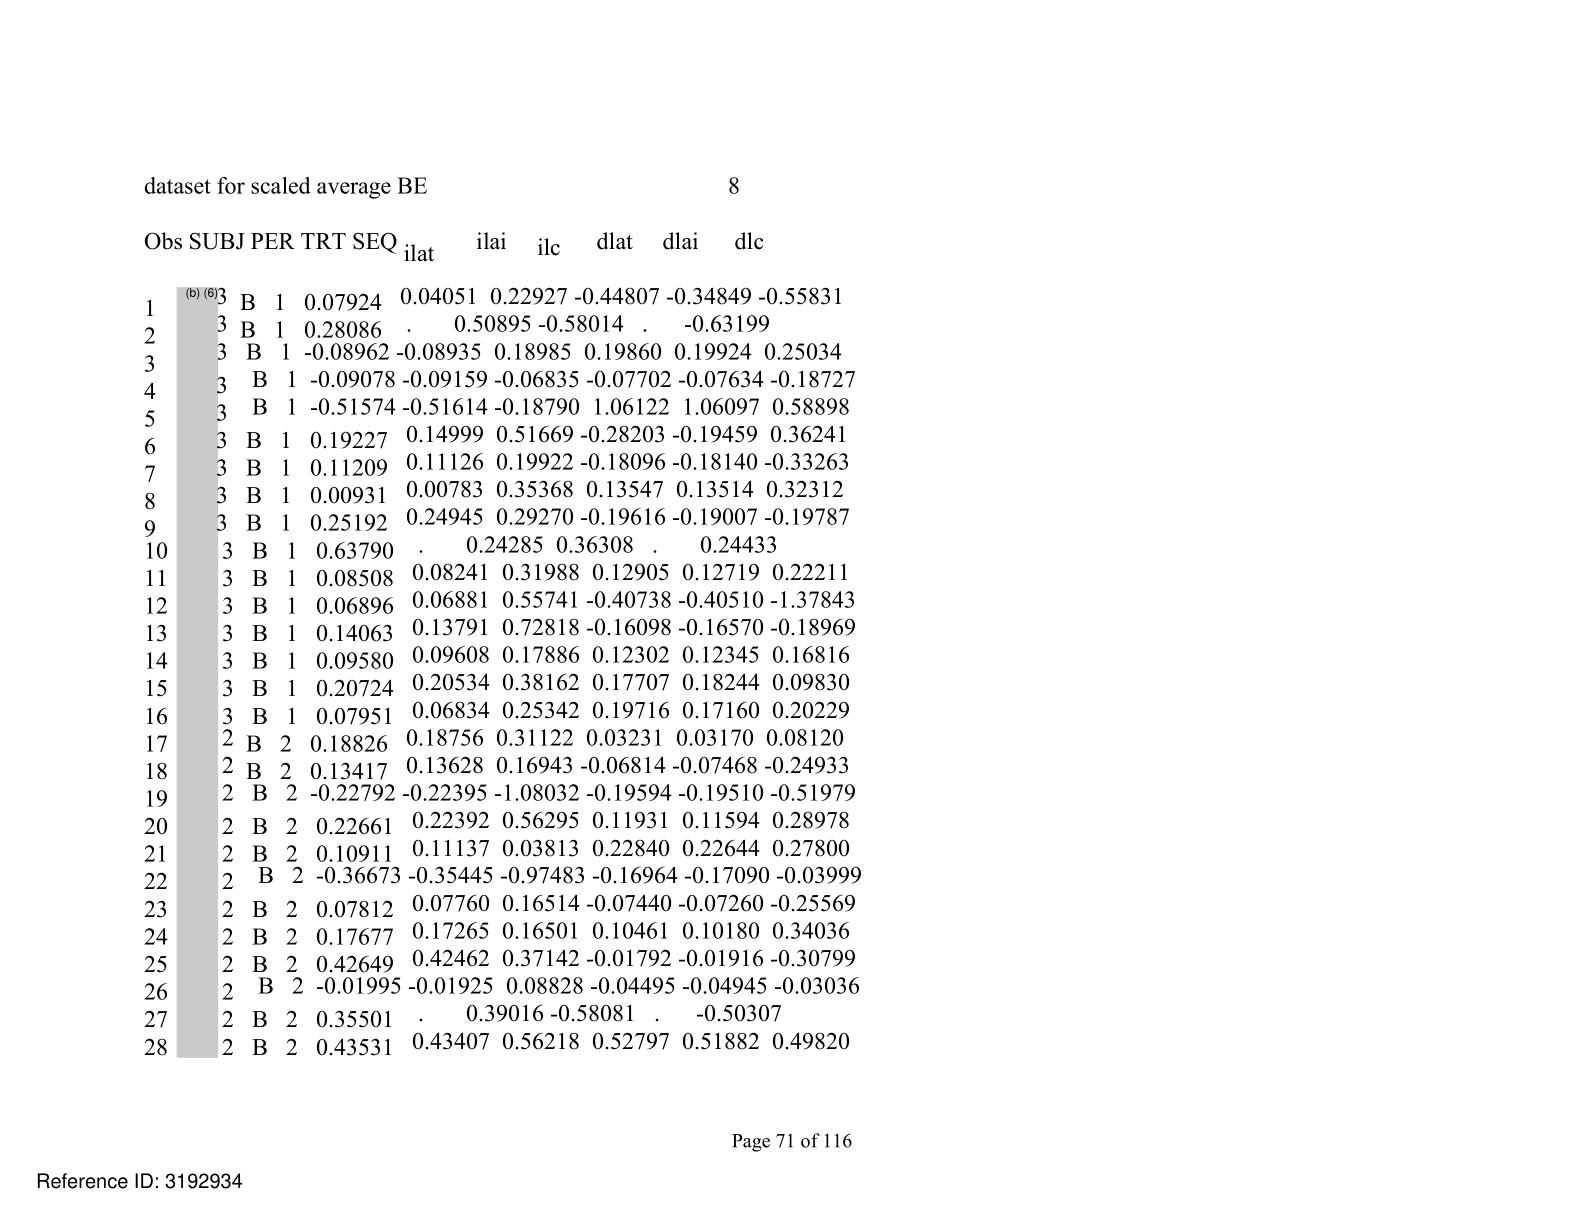nolines: (141, 228, 861, 1062)
